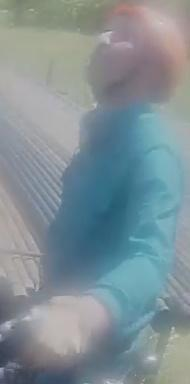gloves: (14, 295, 99, 374)
helmet: (109, 4, 185, 105)
vest: (41, 104, 171, 331)
